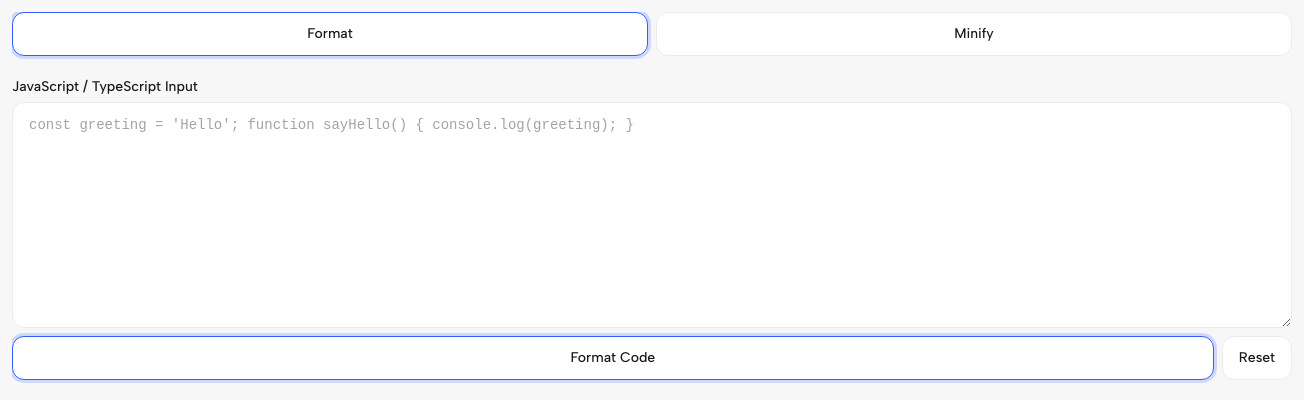
Test: JsFormatterTool › switches to minify mode
Click the button "Minify" at (974,34), box [656,12,1292,56]
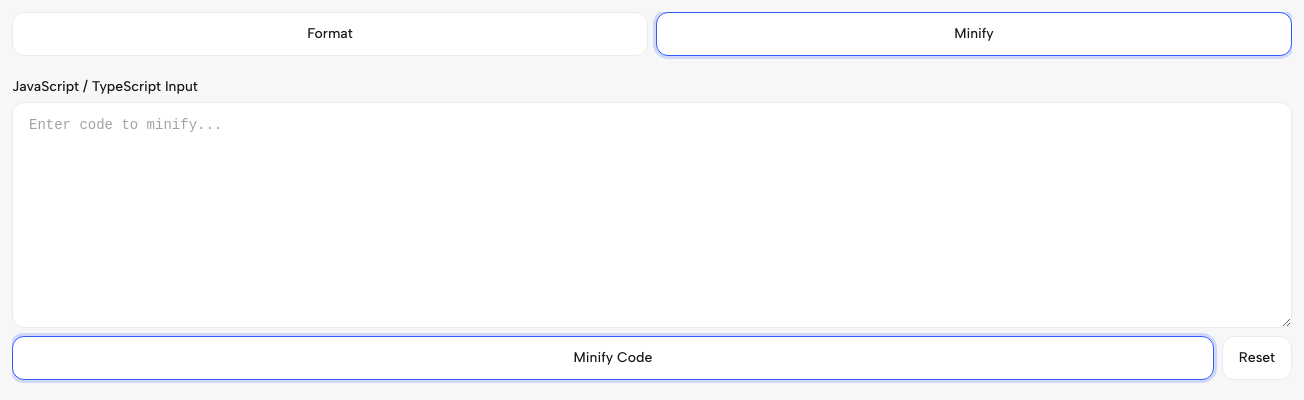
Now the text box with placeholder "Enter code to minify..." is shown, box [12,102,1292,328]
